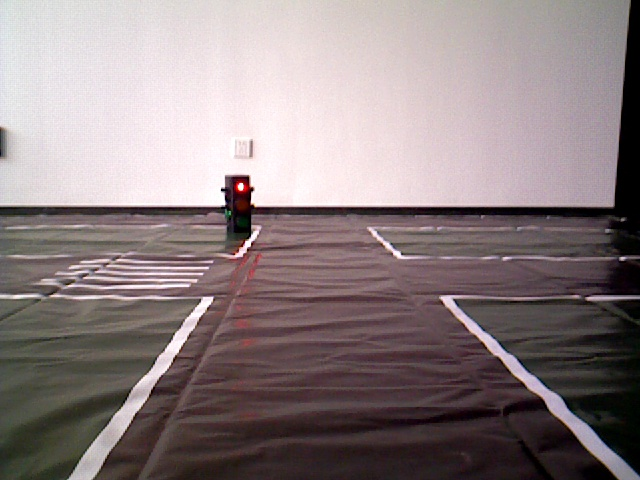red: (223, 178, 250, 233)
